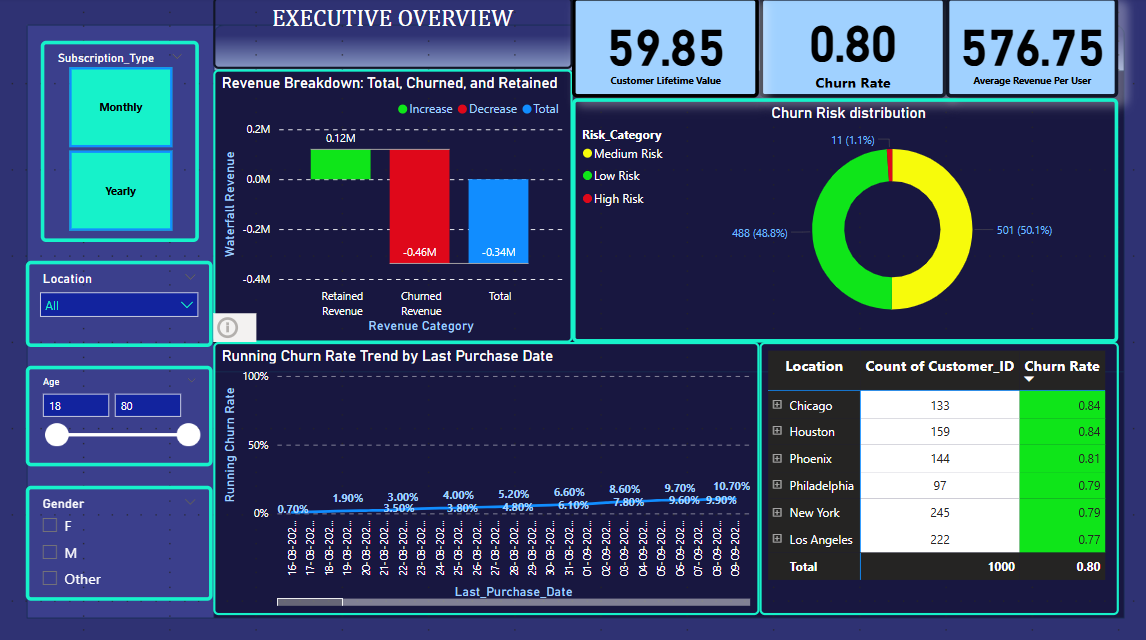

What the dashboard file says about the page in this screenshot:
{"tool":"powerbi","page":{"name":"Executive overview","canvas":[1280,720],"ordinal":0},"visuals":[{"type":"lineChart","title":"Running Churn Rate Trend by Last Purchase Date","fields":{"Y":["churn_dataset.Running Churn Rate"],"Category":["churn_dataset.Last_Purchase_Date"]},"box":[240,384,608,304],"z":0},{"type":"pivotTable","title":"Churn Rate Analysis by Location and Subscription Type","fields":{"Rows":["churn_dataset.Location","churn_dataset.Subscription_Type"],"Values":["CountNonNull(churn_dataset.Customer_ID)","churn_dataset.Churn Rate"]},"box":[848,384,400,304],"z":1000},{"type":"waterfallChart","title":"Revenue Breakdown: Total, Churned, and Retained","fields":{"Category":["churn_dataset.Revenue Category"],"Y":["churn_dataset.Waterfall Revenue"]},"box":[240,80,400,304],"z":2000},{"type":"card","fields":{"Values":["churn_dataset.Churn Rate"]},"box":[848,0,208,112],"z":3000},{"type":"card","fields":{"Values":["churn_dataset.Customer Lifetime Value"]},"box":[640,0,208,112],"z":4000},{"type":"card","fields":{"Values":["churn_dataset.Average Revenue Per User"]},"box":[1056,0,192,112],"z":5000},{"type":"slicer","fields":{"Values":["churn_dataset.Location"]},"box":[32,293.3,208,96],"z":6000},{"type":"slicer","fields":{"Values":["churn_dataset.Subscription_Type"]},"box":[48,48,176,224],"z":7000},{"type":"slicer","fields":{"Values":["churn_dataset.Age"]},"box":[32,410.7,208,112],"z":8000},{"type":"slicer","fields":{"Values":["churn_dataset.Gender"]},"box":[32,544,208,128],"z":9000},{"type":"textbox","box":[240,0,400,80],"z":10000},{"type":"actionButton","box":[240,352,48,32],"z":11000},{"type":"donutChart","title":"Churn Risk distribution","fields":{"Category":["churn_dataset.Risk_Category"],"Y":["CountNonNull(churn_dataset.Customer_ID)"]},"box":[640,112,608,272],"z":12000}]}

Visuals, with their boxes in screenshot pixels (x1, y1, x2, y2), scaled from the page's 1280x720 canvas onto the 1146x640 screenshot:
"Running Churn Rate Trend by Last Purchase Date" lineChart: 215/341/759/612
"Churn Rate Analysis by Location and Subscription Type" pivotTable: 759/341/1117/612
"Revenue Breakdown: Total, Churned, and Retained" waterfallChart: 215/71/573/341
card - churn_dataset.Churn Rate: 759/0/945/100
card - churn_dataset.Customer Lifetime Value: 573/0/759/100
card - churn_dataset.Average Revenue Per User: 945/0/1117/100
slicer - churn_dataset.Location: 29/261/215/346
slicer - churn_dataset.Subscription_Type: 43/43/201/242
slicer - churn_dataset.Age: 29/365/215/465
slicer - churn_dataset.Gender: 29/484/215/597
textbox: 215/0/573/71
actionButton: 215/313/258/341
"Churn Risk distribution" donutChart: 573/100/1117/341
